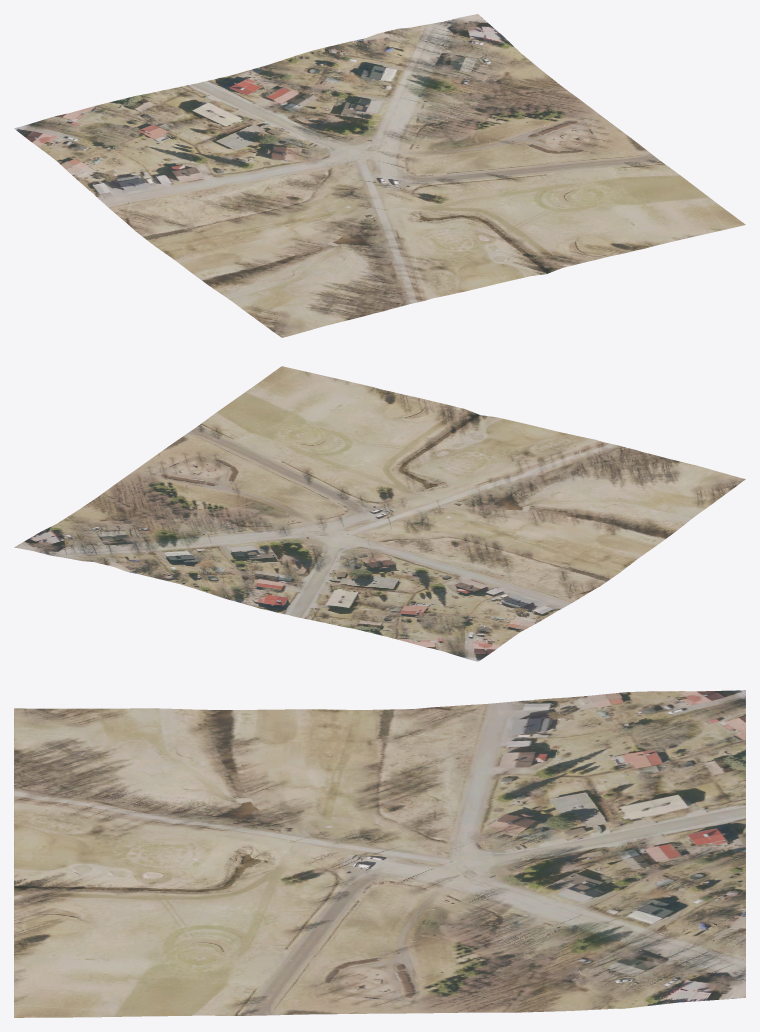
File: CM_Terrain_24491278_6819180.fbx
3 views of the same model, one above another, from view 1: azimuth 30°, elevation 25°; view 2: azimuth 150°, elevation 25°; view 3: azimuth 270°, elevation 25° (orthographic). The views are drawn at different scales.
Visible parts, largest first — view 1: CM_Terrain_24491278_6819180_LOD0; view 2: CM_Terrain_24491278_6819180_LOD0; view 3: CM_Terrain_24491278_6819180_LOD0.
Part boxes in pixels (x1,y1,x2,y2): CM_Terrain_24491278_6819180_LOD0: (14, 14, 745, 337); CM_Terrain_24491278_6819180_LOD0: (14, 366, 745, 661); CM_Terrain_24491278_6819180_LOD0: (14, 690, 745, 1017).
Size of what is drawn, in the model's own units: 205 by 8.91 by 205.
